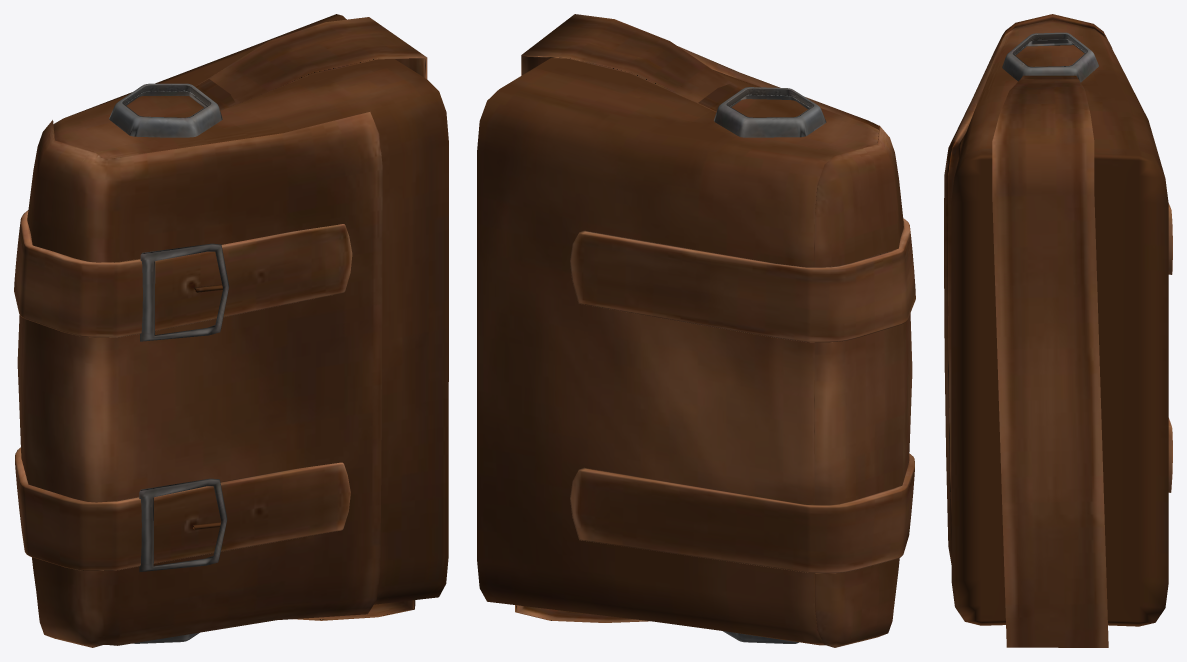
File: Morral Fin.FBX
The picture shows the model from 3 angles, left to right: view 1: azimuth 30°, elevation 25°; view 2: azimuth 150°, elevation 25°; view 3: azimuth 270°, elevation 25°; orthographic projection. The views are drawn at different scales.
Parts seen in each view (by area): view 1: Morral; view 2: Morral; view 3: Morral.
Boxes of the visible parts, left/top/right/bottom form: Morral: left=14, top=14, right=448, bottom=647; Morral: left=477, top=14, right=915, bottom=647; Morral: left=944, top=14, right=1172, bottom=647.
Size of the model in its own units: 72.55 by 106 by 42.46.
Materials: 1 (1 with a texture image).
